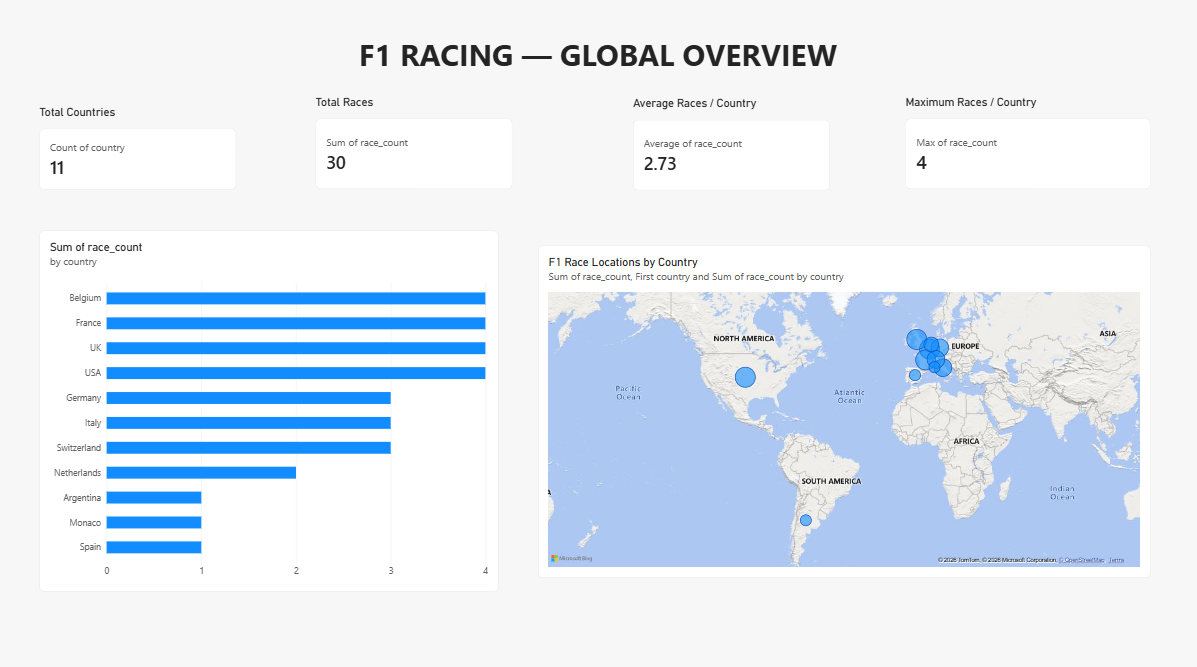

Layout of this report page (visuals, bound fields, positions):
{"tool":"powerbi","page":{"name":"Global Overview","canvas":[1920,1080],"ordinal":1},"visuals":[{"type":"textbox","box":[0,55,1920,100],"z":0},{"type":"cardVisual","title":"Total Countries","fields":{"Data":["Count(races_by__country.country)"]},"box":[66,172,315,135],"z":1000},{"type":"cardVisual","title":"Total Races","fields":{"Data":["Sum(races_by__country.race_count)"]},"box":[508,156,315,150],"z":2000},{"type":"cardVisual","title":"Average Races / Country","fields":{"Data":["Avg(races_by__country.race_count)"]},"box":[1016,158,315,150],"z":3000},{"type":"cardVisual","title":"Maximum Races / Country","fields":{"Data":["Max(races_by__country.race_count)"]},"box":[1452,156,392,150],"z":4000},{"type":"clusteredBarChart","fields":{"Category":["races_by__country.country"],"Y":["Sum(races_by__country.race_count)"]},"box":[65.9,372.7,735,577.5],"z":5000},{"type":"map","title":"F1 Race Locations by Country","fields":{"Category":["races_by__country.country"],"Size":["Sum(races_by__country.race_count)"]},"box":[863.6,395.5,980,532],"z":6000}]}

Visuals, with their boxes in screenshot pixels (x1, y1, x2, y2), scaled from the page's 1920x1080 canvas onto the 1197x667 screenshot:
textbox: detection(0, 34, 1196, 96)
"Total Countries" cardVisual: detection(41, 106, 238, 190)
"Total Races" cardVisual: detection(317, 96, 513, 189)
"Average Races / Country" cardVisual: detection(633, 98, 830, 190)
"Maximum Races / Country" cardVisual: detection(905, 96, 1150, 189)
clusteredBarChart - races_by__country.country x Sum(races_by__country.race_count): detection(41, 230, 499, 587)
"F1 Race Locations by Country" map: detection(538, 244, 1149, 573)
